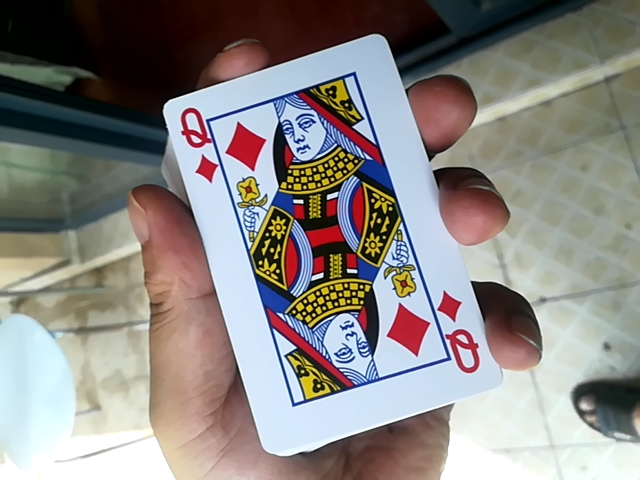fk q: (160, 41, 488, 462)
